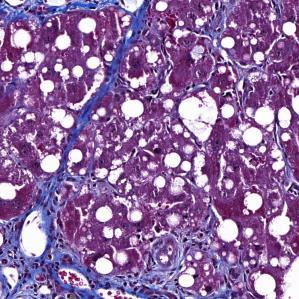fibrosis: (141, 227, 248, 299), (0, 217, 92, 291), (23, 0, 122, 20)
